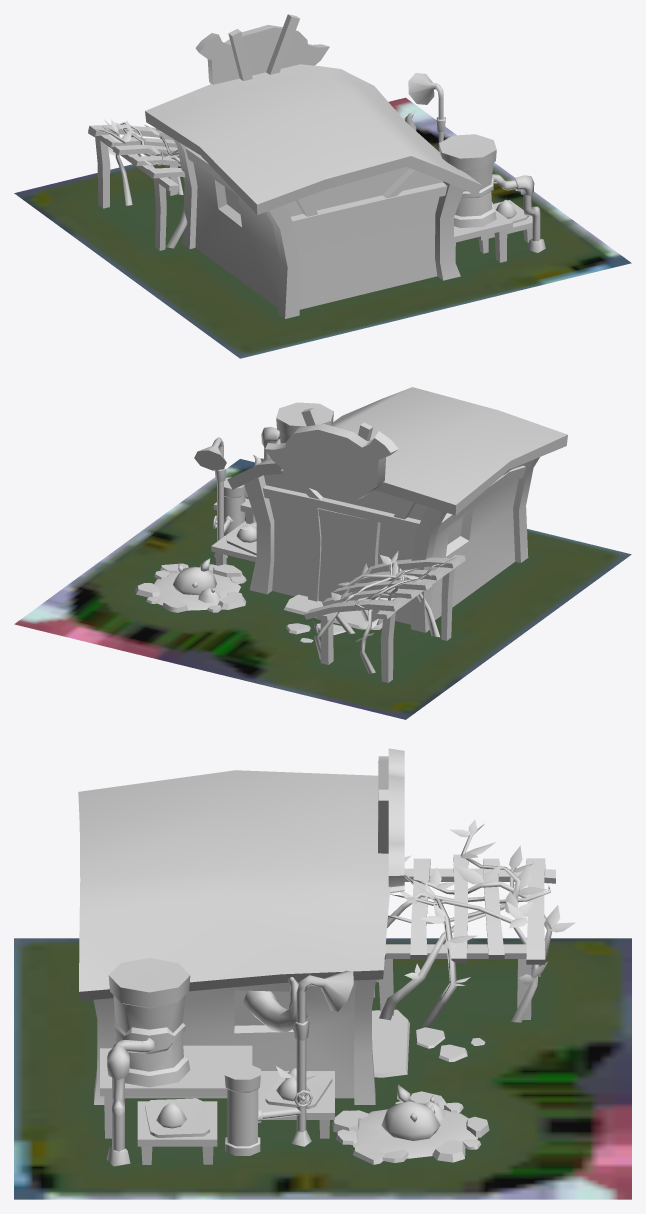
Rendered from P_build_1002_new.fbx.
3 renders of one model, top to bottom at view 1: azimuth 30°, elevation 25°; view 2: azimuth 150°, elevation 25°; view 3: azimuth 270°, elevation 25°, orthographic. The views are drawn at different scales.
Visible parts, largest first — view 1: S_build_1002_new_a, S_build_1002_new_b; view 2: S_build_1002_new_a, S_build_1002_new_b; view 3: S_build_1002_new_a, S_build_1002_new_b.
Part boxes in pixels (x1,y1,x2,y2): S_build_1002_new_a: (88,14,545,318); S_build_1002_new_b: (14,97,631,358); S_build_1002_new_a: (135,387,567,682); S_build_1002_new_b: (14,459,631,719); S_build_1002_new_a: (78,748,575,1166); S_build_1002_new_b: (14,938,631,1199).
Size of what is drawn, in the model's own units: 7 by 3.45 by 7.
